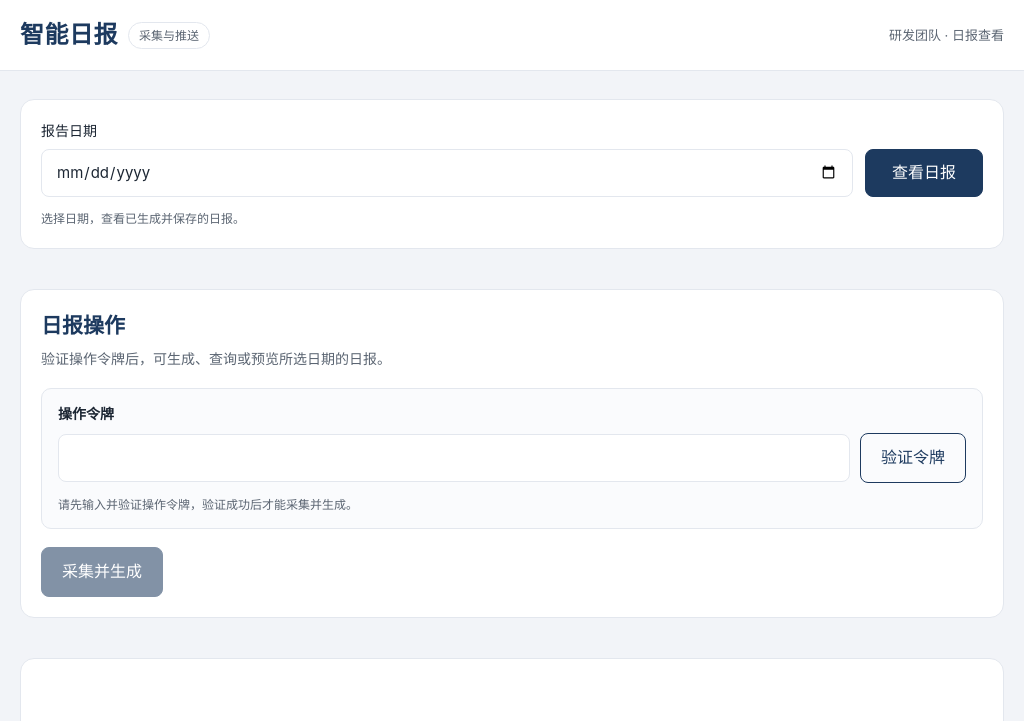
Test: late_preview_for_A_cannot_replace_selected_B
In the date field labelled "报告日期": (447,173) left=41, top=149, right=853, bottom=197, type "2026-09-25"
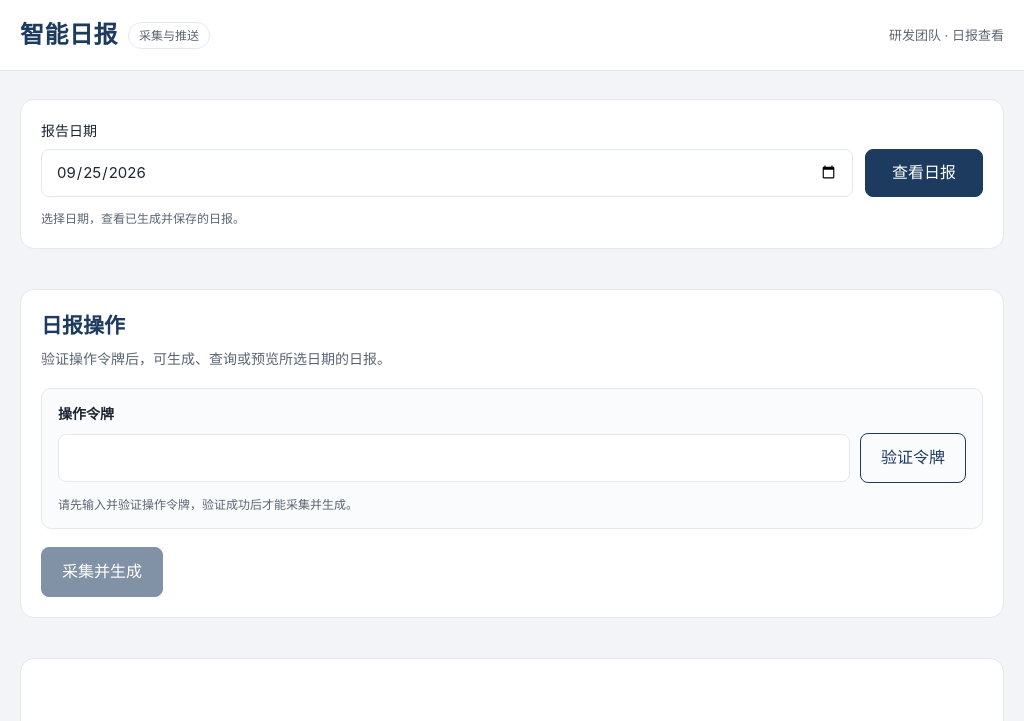
In the password field labelled "操作令牌": (454,458) left=58, top=434, right=850, bottom=482, type "private-token"
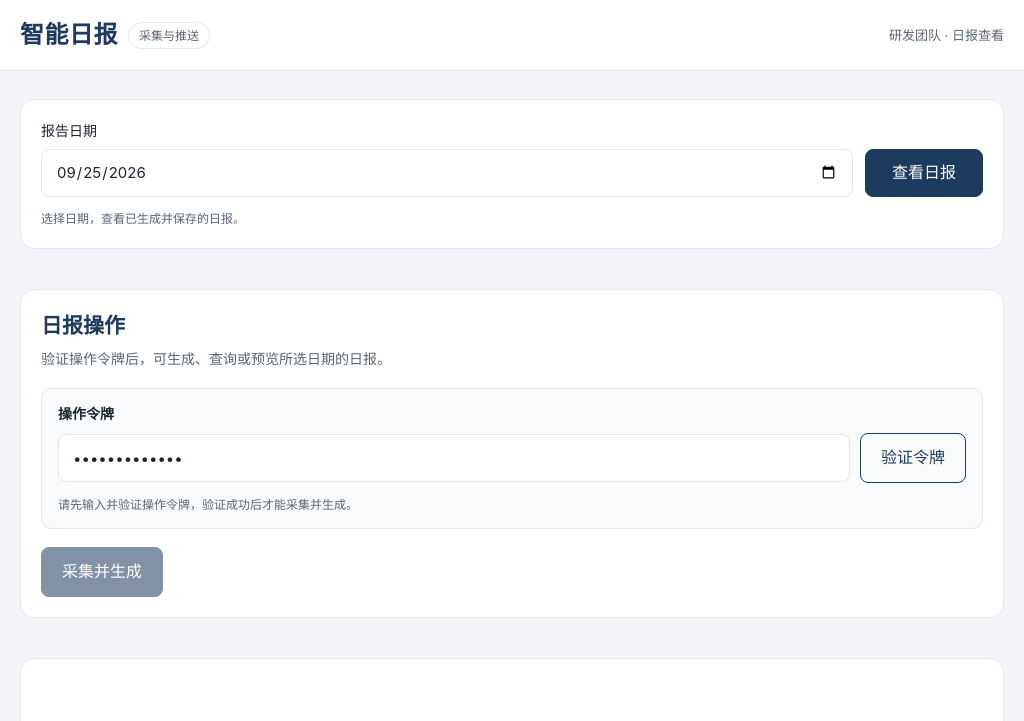
Click the button "验证令牌": (913,458) left=860, top=433, right=966, bottom=483
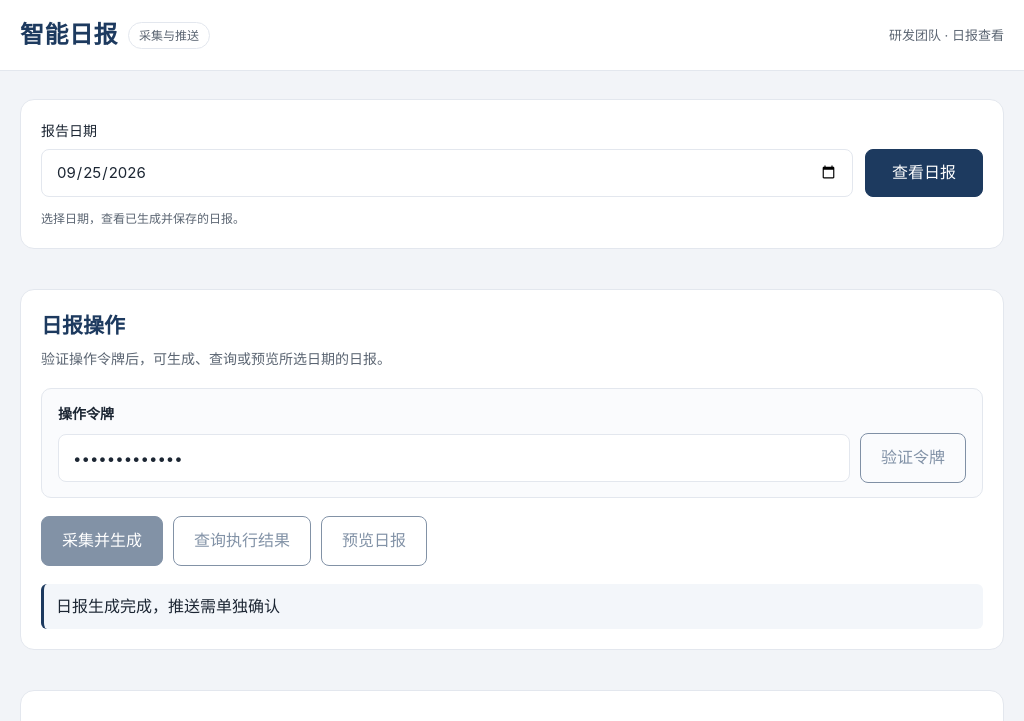
In the date field labelled "报告日期": (447,173) left=41, top=149, right=853, bottom=197, type "2026-09-26"
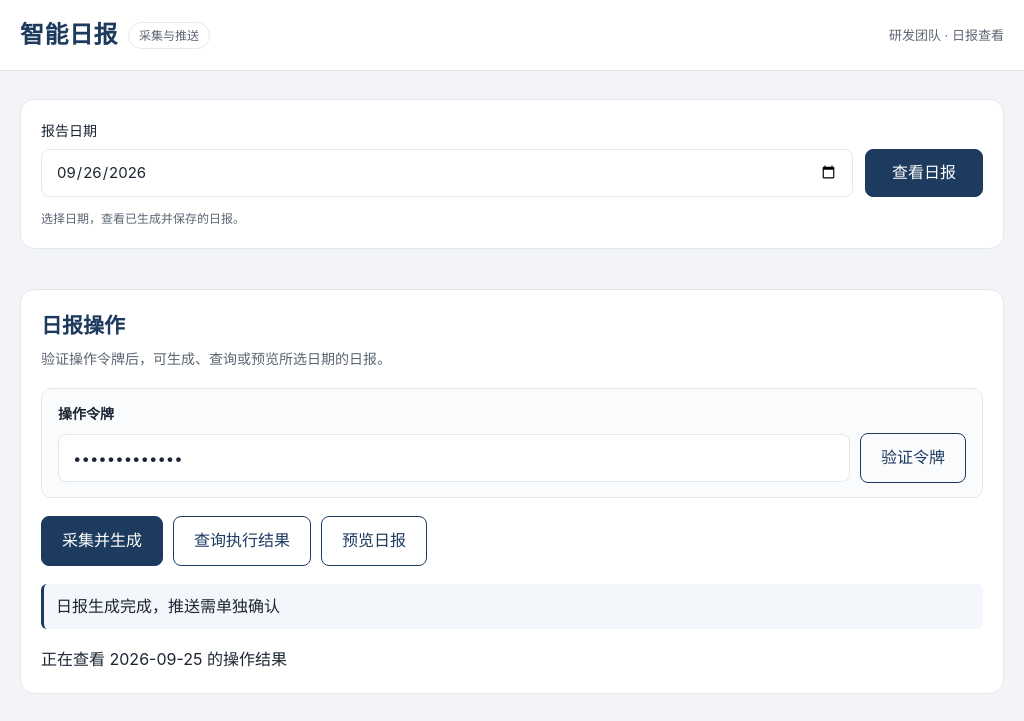
Expected: the button "验证令牌" is enabled, left=860, top=433, right=966, bottom=483
